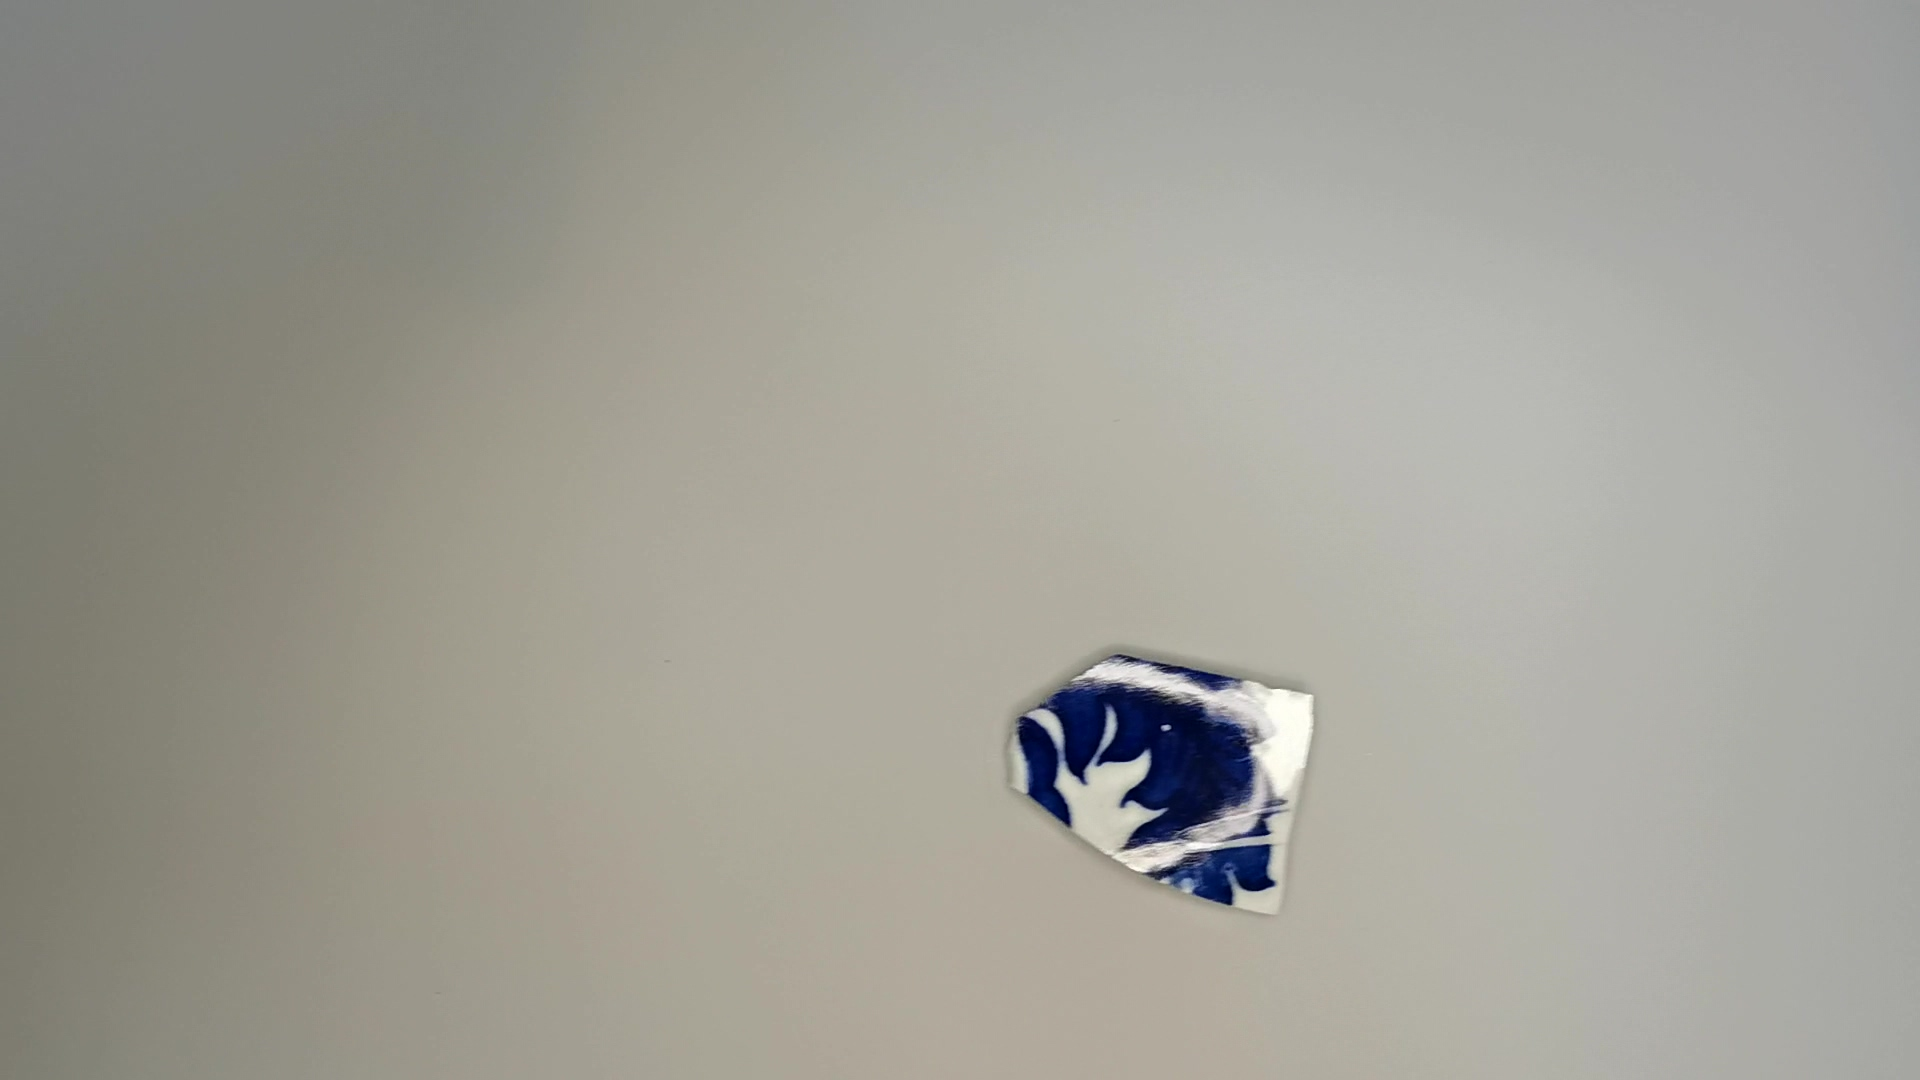ceramic: (1001, 646, 1333, 930)
